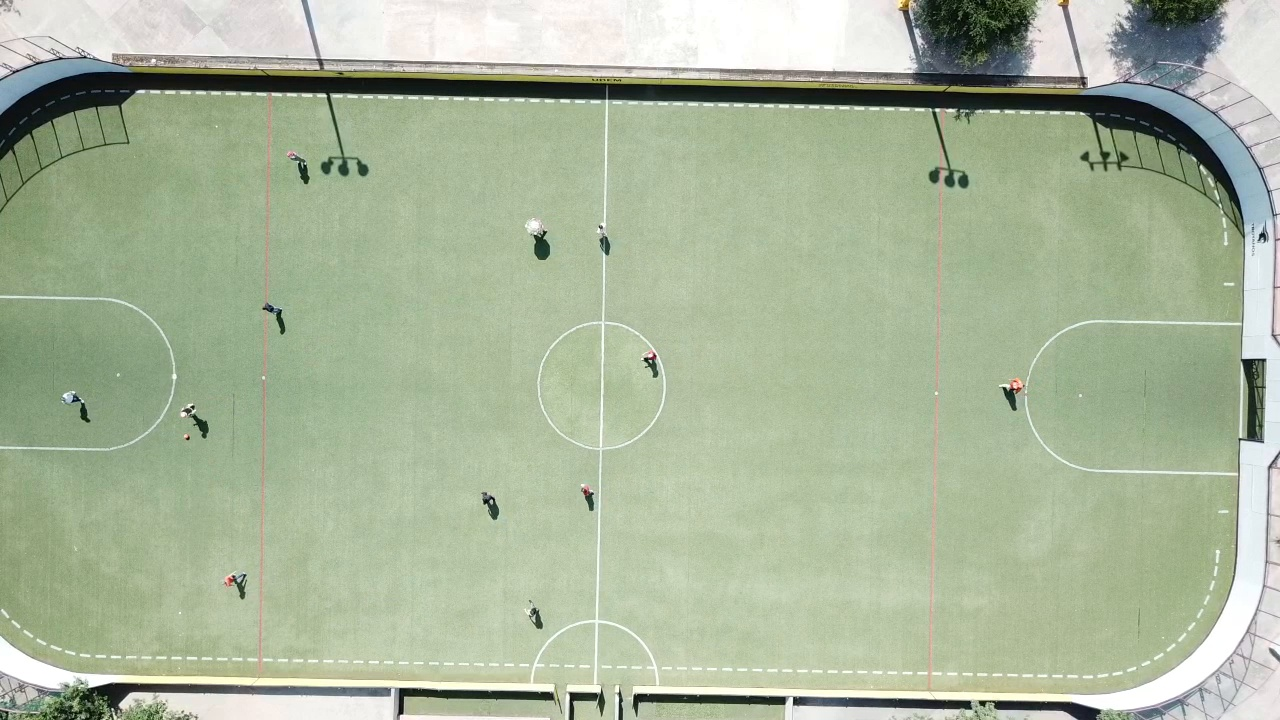ball: (183, 433, 190, 441)
player: (994, 378, 1026, 408), (60, 390, 86, 409), (524, 217, 547, 238), (642, 348, 659, 372), (526, 601, 542, 625), (284, 151, 308, 166), (225, 572, 247, 588), (263, 303, 284, 318), (581, 483, 595, 503), (180, 402, 195, 416), (482, 492, 496, 506), (596, 223, 607, 239)
